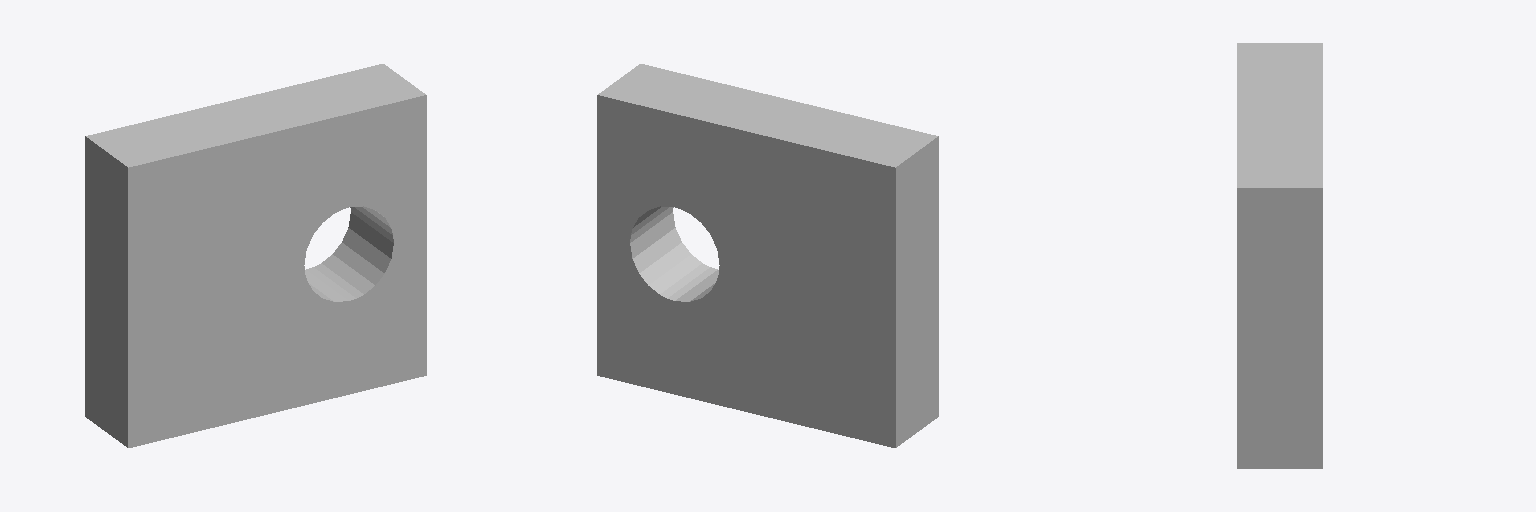
Rendered from cad-Cut005.obj.
The picture shows the model from 3 angles: view 1: azimuth 30°, elevation 25°; view 2: azimuth 150°, elevation 25°; view 3: azimuth 270°, elevation 25°; orthographic projection.
Visible parts, largest first — view 1: Cut005; view 2: Cut005; view 3: Cut005.
Part boxes in pixels (x1,y1,x2,y2): Cut005: (85, 64, 426, 447); Cut005: (597, 64, 938, 447); Cut005: (1237, 43, 1322, 468).
Size of the model in its own units: 10 by 9 by 2.5.